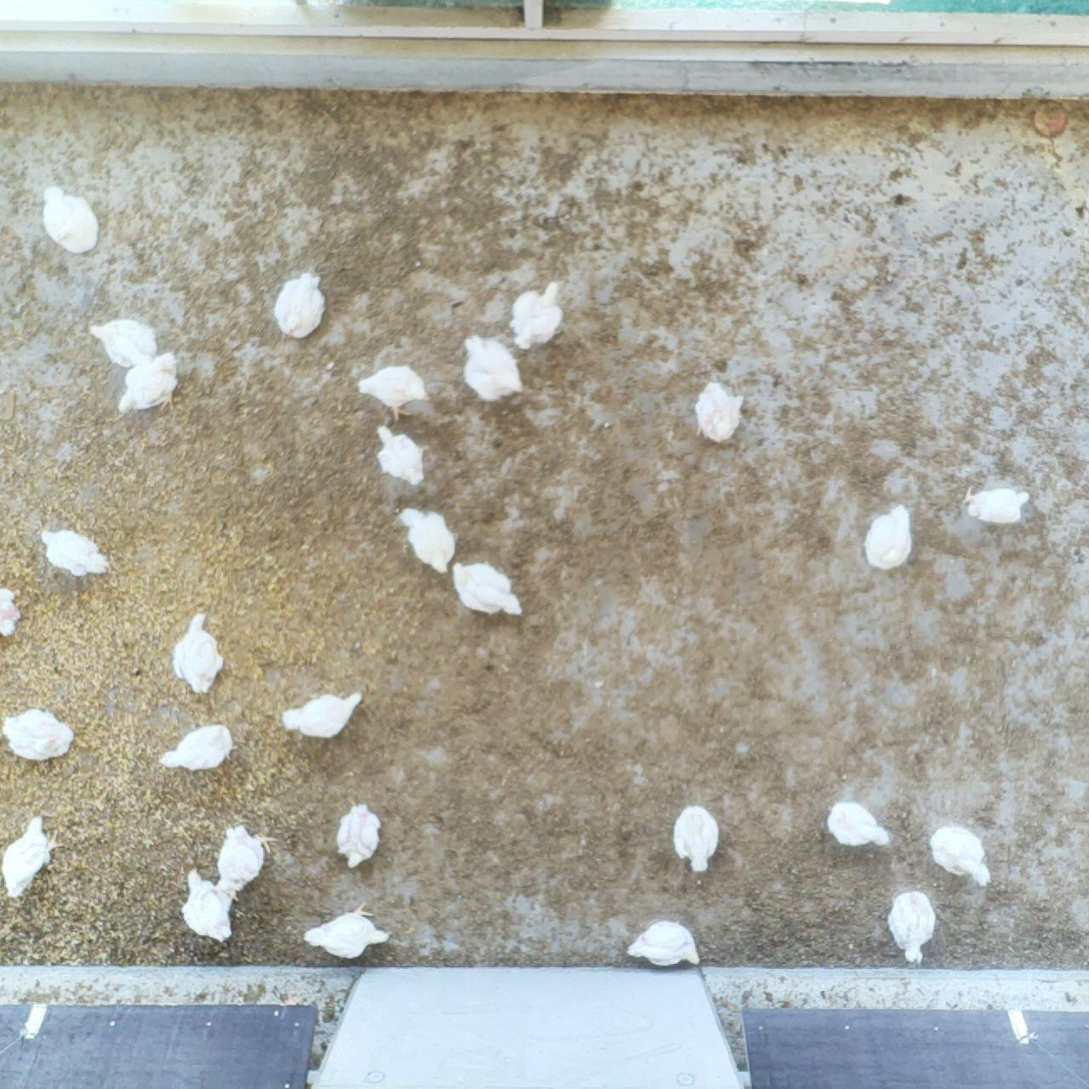chicken: (301, 898, 392, 964), (0, 811, 66, 901), (38, 179, 105, 257), (457, 331, 527, 405), (215, 820, 281, 898), (171, 608, 227, 697), (281, 685, 365, 742), (450, 558, 525, 620), (178, 864, 238, 941), (115, 348, 181, 417), (356, 362, 430, 423), (271, 267, 331, 342), (928, 822, 994, 890), (396, 504, 459, 575), (85, 311, 159, 371), (0, 707, 79, 763), (159, 721, 240, 775), (507, 276, 566, 350), (37, 523, 111, 580), (885, 888, 939, 965), (626, 916, 703, 968), (670, 800, 722, 876), (862, 502, 917, 572), (372, 421, 428, 489), (692, 377, 746, 446), (826, 795, 891, 852), (334, 795, 382, 870), (957, 478, 1032, 526), (0, 586, 25, 640)
